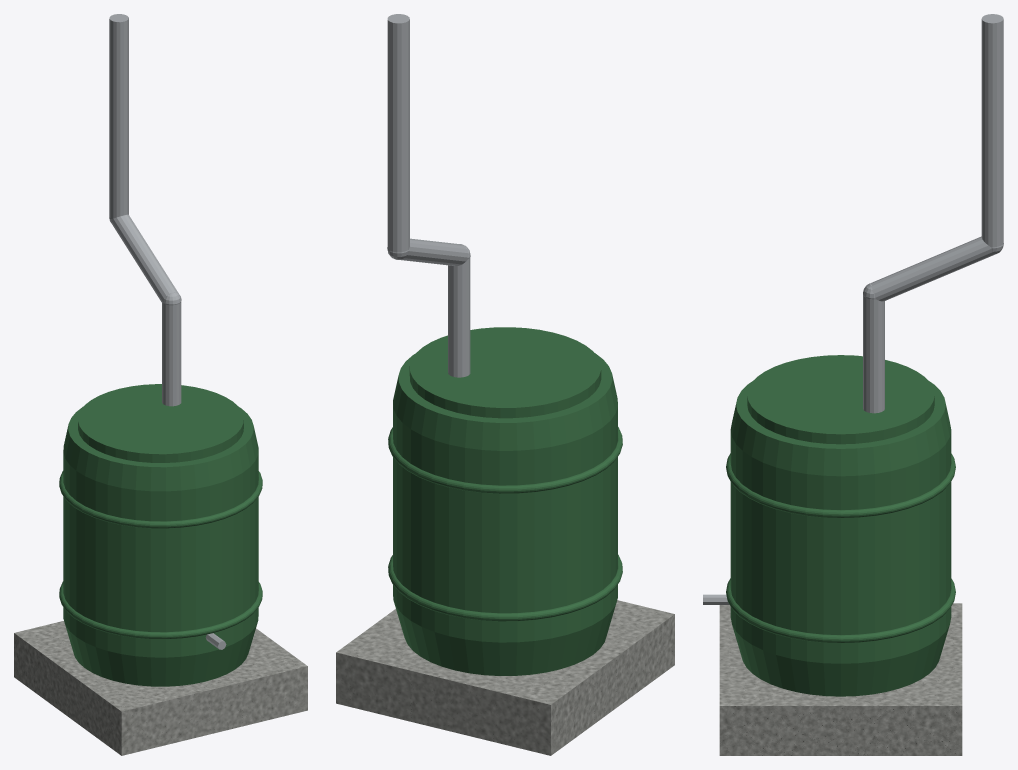
3 views of the same model, side by side, from view 1: azimuth 30°, elevation 25°; view 2: azimuth 150°, elevation 25°; view 3: azimuth 270°, elevation 25° (orthographic). The views are drawn at different scales.
Visible parts, largest first — view 1: accessShaft=false;coverDepth=0.8;height=1.2;installation=abo (×3); view 2: accessShaft=false;coverDepth=0.8;height=1.2;installation=abo (×3); view 3: accessShaft=false;coverDepth=0.8;height=1.2;installation=abo (×3).
Boxes of the visible parts, box(x1,y1,x2,y2) form: accessShaft=false;coverDepth=0.8;height=1.2;installation=abo (×3): box(14, 14, 307, 755); accessShaft=false;coverDepth=0.8;height=1.2;installation=abo (×3): box(336, 14, 674, 755); accessShaft=false;coverDepth=0.8;height=1.2;installation=abo (×3): box(703, 14, 1003, 755).
Bounding box in the file's own units: 0.88 × 1.09 × 2.8.
Materials: 3 (1 with a texture image).
